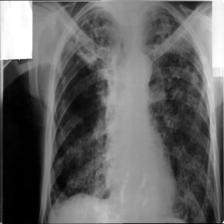tuberculosis: (44, 1, 220, 224)
